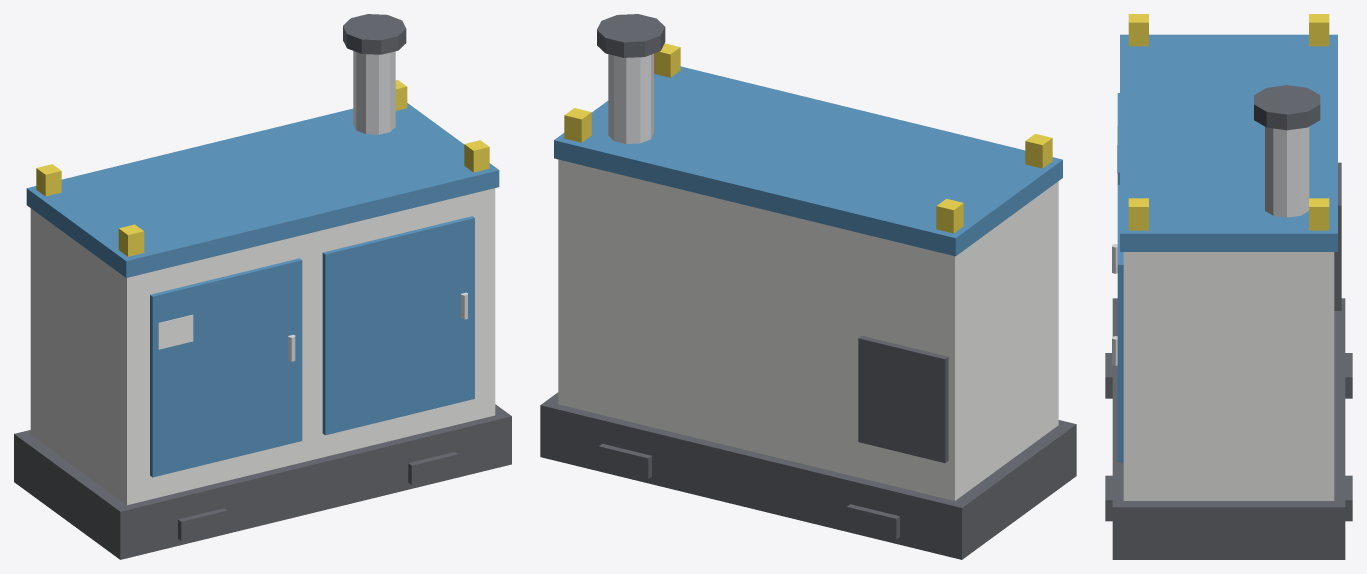
File: shipyard-and-dry-dock-shipyard-and-dry-dock-generator--9d90b1c9__37956.glb
The picture shows the model from 3 angles, left to right: view 1: azimuth 30°, elevation 25°; view 2: azimuth 150°, elevation 25°; view 3: azimuth 270°, elevation 25°; orthographic projection. The views are drawn at different scales.
Visible parts, largest first — view 1: shipyard-and-dry-dock-generator-set; view 2: shipyard-and-dry-dock-generator-set; view 3: shipyard-and-dry-dock-generator-set.
Part boxes in pixels (x1,y1,x2,y2): shipyard-and-dry-dock-generator-set: (14, 14, 511, 559); shipyard-and-dry-dock-generator-set: (540, 14, 1076, 559); shipyard-and-dry-dock-generator-set: (1105, 14, 1352, 559).
Bounding box in the file's own units: 3.4 × 3.26 × 1.7.
